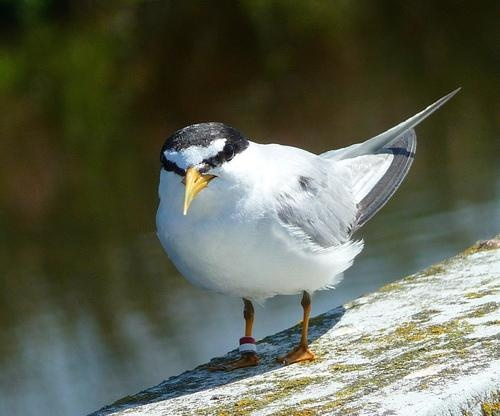bird: (144, 89, 460, 373)
